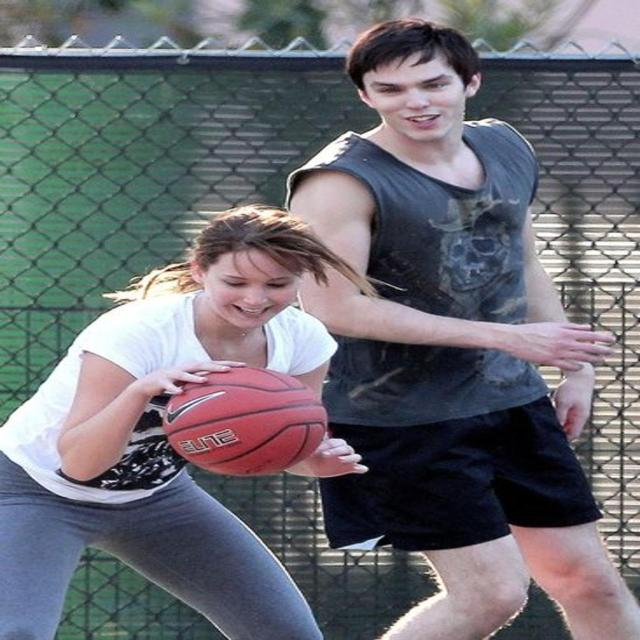Face: (364, 48, 470, 141), (189, 245, 297, 326)
